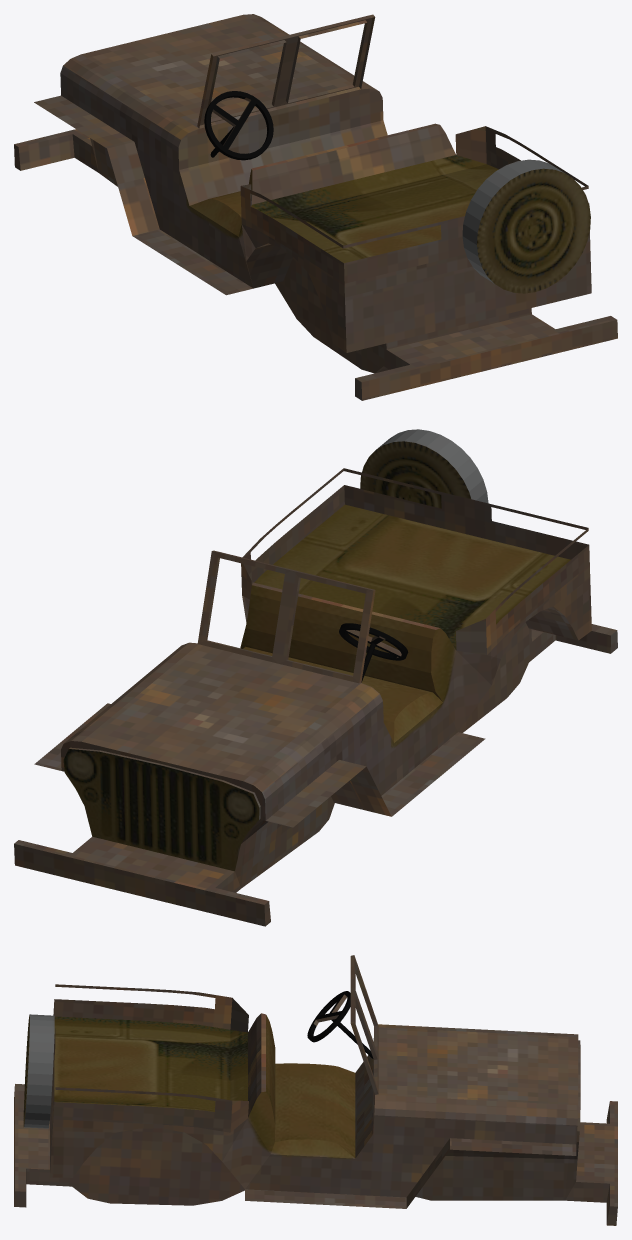
File: jeep_wreck.fbx
The picture shows the model from 3 angles, top to bottom: view 1: azimuth 30°, elevation 25°; view 2: azimuth 150°, elevation 25°; view 3: azimuth 270°, elevation 25°; orthographic projection. The views are drawn at different scales.
Visible parts, largest first — view 1: Cube.001; view 2: Cube.001; view 3: Cube.001.
Boxes of the visible parts, box(x1,y1,x2,y2) form: Cube.001: box(14, 14, 617, 400); Cube.001: box(14, 429, 617, 926); Cube.001: box(14, 955, 617, 1225).
Bounding box in the file's own units: 145 × 116 × 341.
